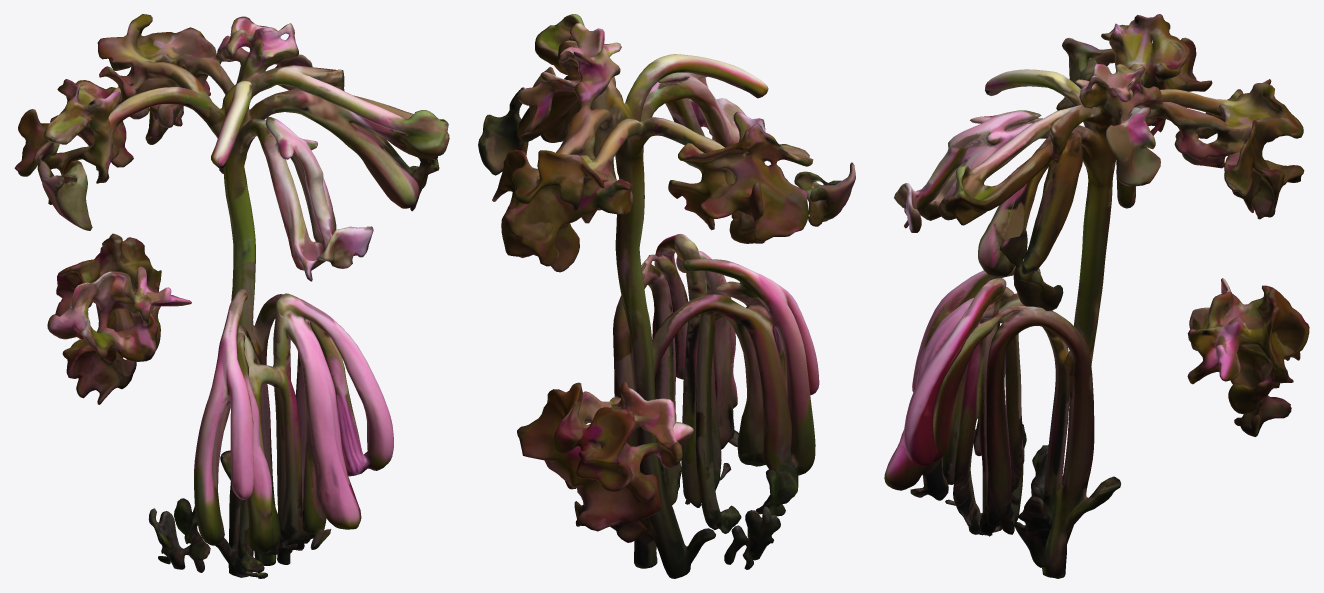
The model's file is HERB0048.gltf.
The picture shows the model from 3 angles, left to right: view 1: azimuth 30°, elevation 25°; view 2: azimuth 150°, elevation 25°; view 3: azimuth 270°, elevation 25°; orthographic projection. The views are drawn at different scales.
Parts seen in each view (by area): view 1: Mesh_0.018; view 2: Mesh_0.018; view 3: Mesh_0.018.
Boxes of the visible parts, x1,y1,x2,y2 form: Mesh_0.018: [14, 14, 449, 578]; Mesh_0.018: [478, 14, 855, 578]; Mesh_0.018: [884, 14, 1309, 578].
Bounding box in the file's own units: 1.49 × 2.01 × 1.47.
Materials: 1 (1 with a texture image).
